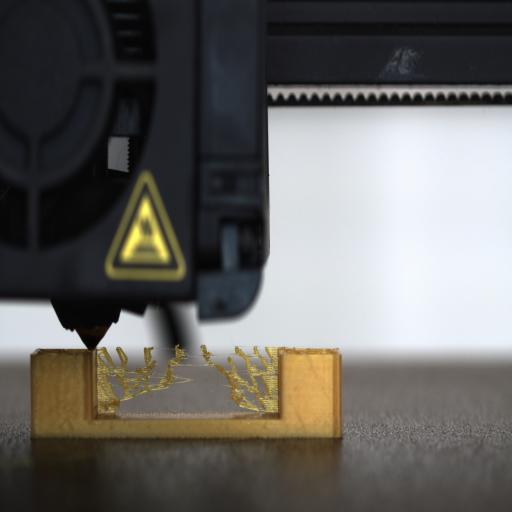stringing: (94, 347, 278, 414)
